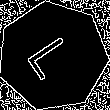L_NE: (24, 29, 83, 83)
